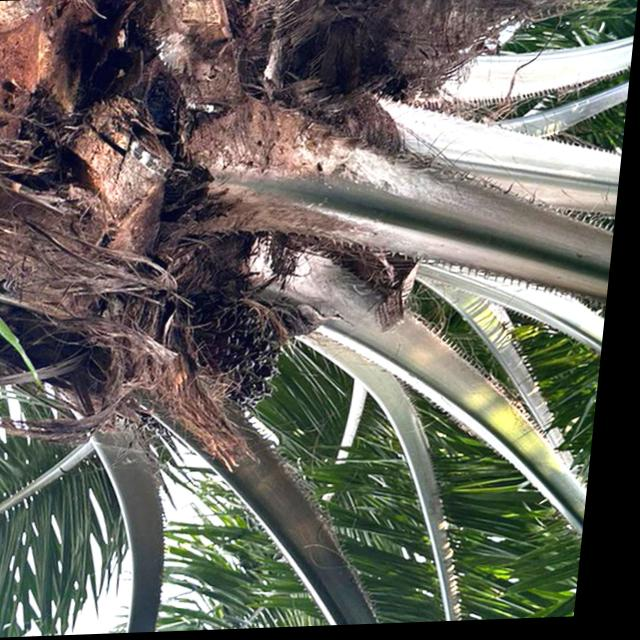ripe: (190, 268, 307, 407)
